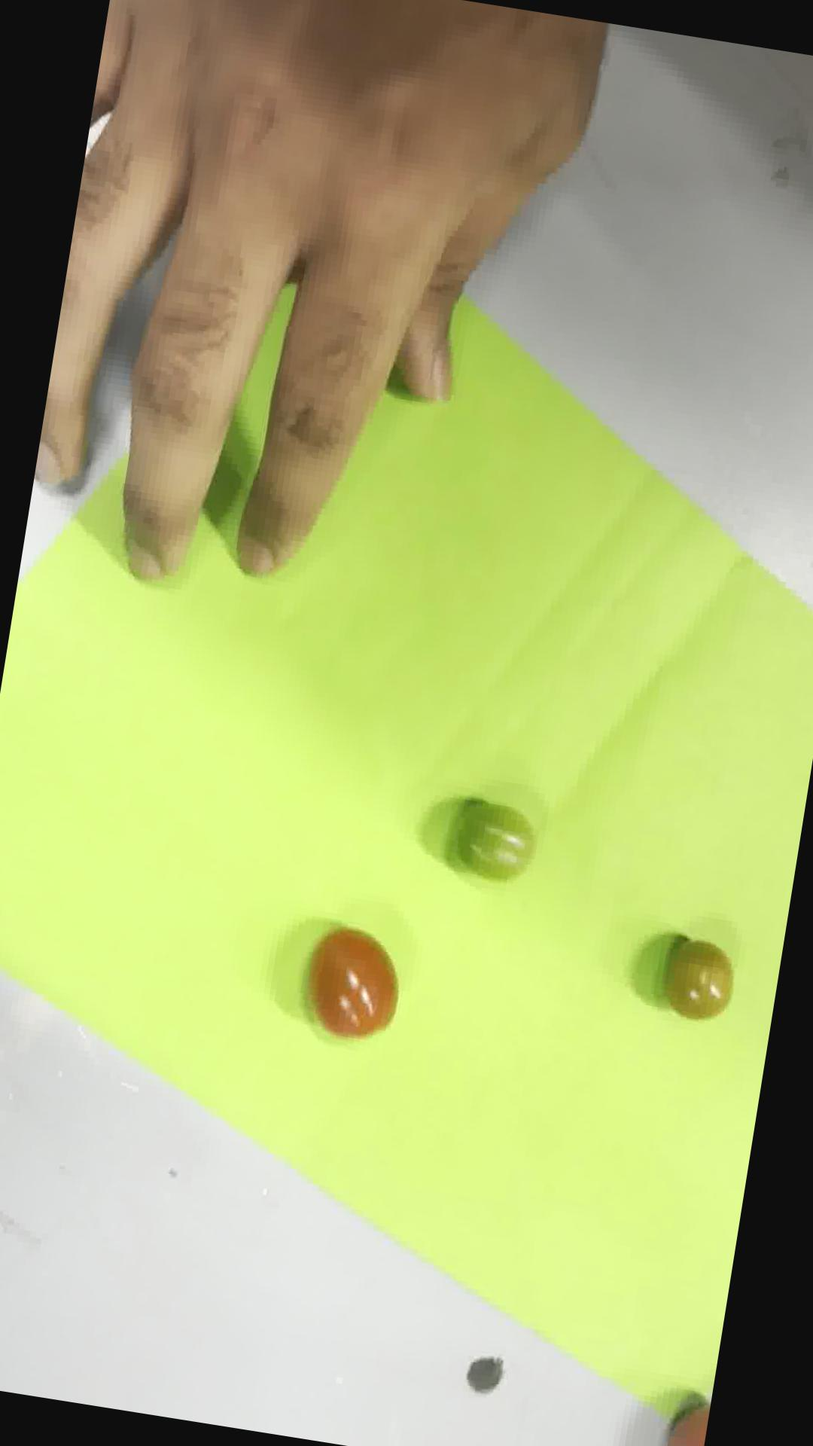green_cherry_tomato: (454, 800, 534, 879)
red_cherry_tomato: (306, 925, 398, 1039)
yellow_cherry_tomato: (664, 937, 733, 1019)
